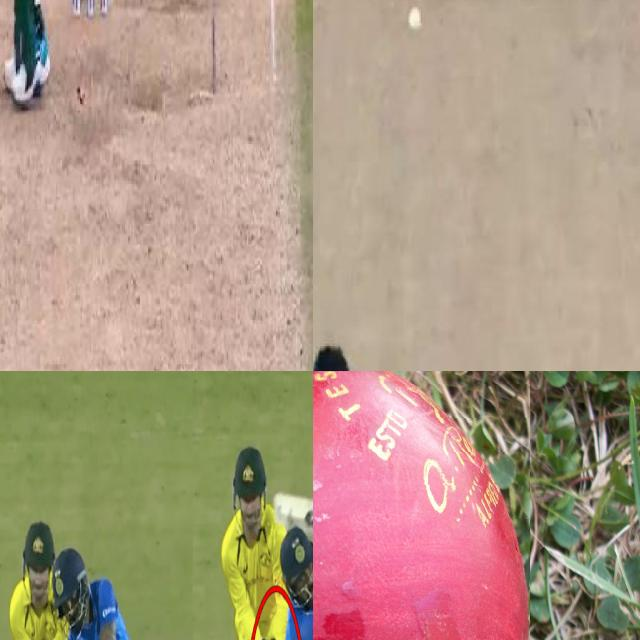Cricket ball: (313, 371, 530, 640), (406, 6, 426, 36)
